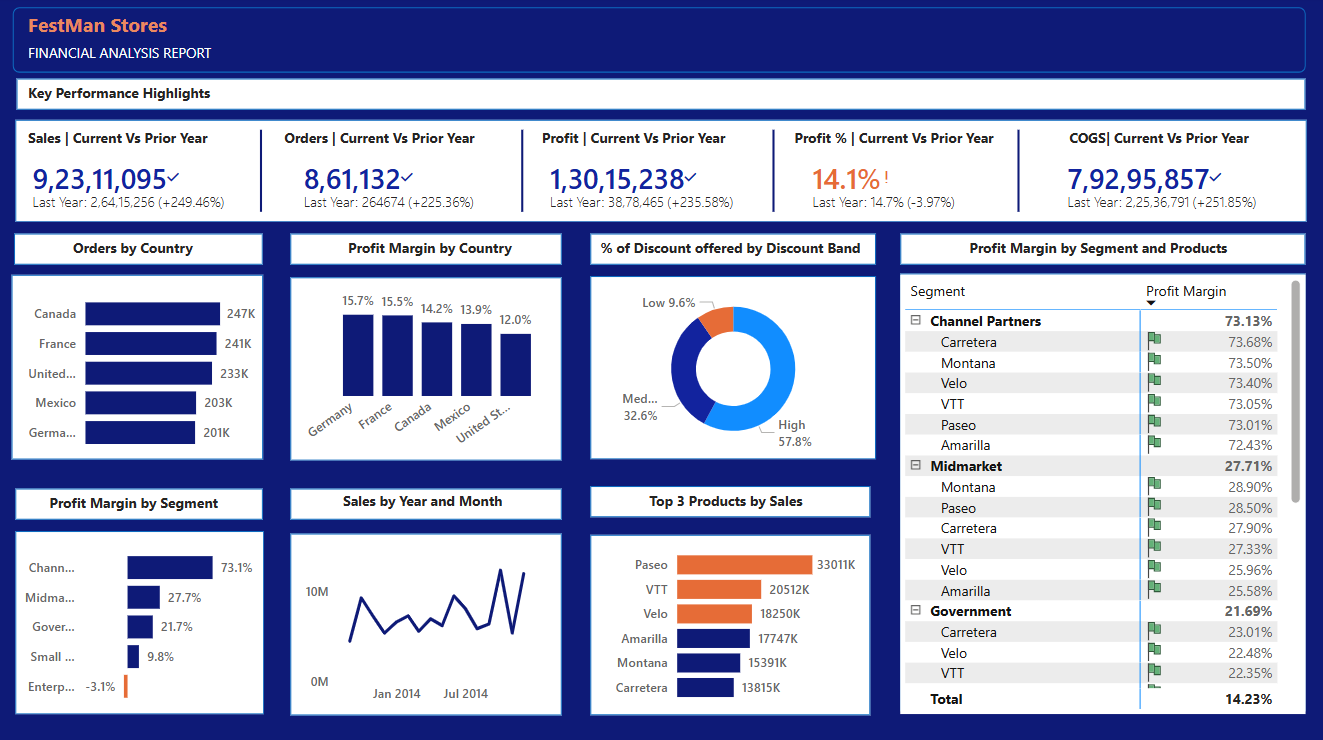

The page's visual inventory and layout, read from the dashboard file:
{"tool":"powerbi","page":{"name":"Financial Analysis Report","canvas":[1280,720],"ordinal":0},"visuals":[{"type":"shape","box":[870,267.6,391.1,422.6],"z":0},{"type":"shape","box":[13.7,11,1247.9,63.1],"z":1000},{"type":"textbox","box":[22.8,9.6,167.4,43.9],"z":2000},{"type":"textbox","box":[22.8,41.2,215.4,38.4],"z":3000},{"type":"shape","box":[17,79.6,1244.1,30.2],"z":4000},{"type":"textbox","box":[23.3,79.6,203.1,30.2],"z":5000},{"type":"shape","box":[15.1,119.4,1246.5,98.8],"z":6000},{"type":"shape","box":[14,229.2,240.1,30.2],"z":7000},{"type":"shape","box":[281.3,229.2,262.1,30.2],"z":8000},{"type":"shape","box":[570.8,229.2,275.8,30.2],"z":9000},{"type":"shape","box":[12.3,269,242.9,178.4],"z":10000},{"type":"shape","box":[281.3,271.7,262.1,177],"z":11000},{"type":"shape","box":[570.8,270.3,275.8,177],"z":12000},{"type":"shape","box":[16.2,474.8,239,30.2],"z":13000},{"type":"shape","box":[281.3,474.8,262.1,30.2],"z":14000},{"type":"shape","box":[570.8,473.4,270.3,30.2],"z":15000},{"type":"shape","box":[15.1,516.5,240.1,177],"z":16000},{"type":"shape","box":[281.3,518.7,262.1,175.6],"z":17000},{"type":"shape","box":[570.8,520.1,270.3,174.3],"z":18000},{"type":"shape","box":[870,229.2,391.1,30.2],"z":19000},{"type":"kpi","fields":{"Indicator":["Analysis.Sales Amount"],"TrendLine":["Date Table.Year"],"Goal":["Analysis.Sales Amount LY"]},"box":[19.2,148.2,222.3,70],"z":20000},{"type":"textbox","box":[23.3,123.5,193.5,30.2],"z":21000},{"type":"shape","box":[186.6,129,131.7,79.6],"z":22000},{"type":"kpi","fields":{"TrendLine":["Date Table.Year"],"Indicator":["Analysis.Orders"],"Goal":["Analysis.Orders LY"]},"box":[281.3,148.2,218.2,70],"z":23000},{"type":"kpi","fields":{"TrendLine":["Date Table.Year"],"Indicator":["Analysis.Profit"],"Goal":["Analysis.Profit LY"]},"box":[518.7,148.2,214.1,70],"z":24000},{"type":"kpi","fields":{"Indicator":["Analysis.Profit Margin"],"TrendLine":["Date Table.Year"],"Goal":["Analysis.Profit Margin LY"]},"box":[772.6,148.2,211.3,70],"z":25000},{"type":"kpi","fields":{"TrendLine":["Date Table.Year"],"Indicator":["Analysis.COGS"],"Goal":["Analysis.COGS LY"]},"box":[1018.2,148.2,211.3,70],"z":26000},{"type":"textbox","box":[270.3,123.5,207.2,30.2],"z":27000},{"type":"textbox","box":[518.7,123.5,205.8,30.2],"z":28000},{"type":"textbox","box":[763,123.5,227.8,30.2],"z":29000},{"type":"textbox","box":[1027.9,123.1,193,30.2],"z":30000},{"type":"shape","box":[439.1,129,131.7,79.6],"z":31000},{"type":"shape","box":[682,129,131.7,79.6],"z":32000},{"type":"shape","box":[918,129,131.7,79.6],"z":33000},{"type":"barChart","fields":{"Category":["Financials.Country"],"Y":["Analysis.Orders"]},"box":[9.6,271.7,242.9,178.4],"z":34000},{"type":"textbox","box":[65.9,229.2,138.6,30.2],"z":35000},{"type":"columnChart","fields":{"Category":["Financials.Country"],"Y":["Analysis.Profit Margin"]},"box":[292.3,270.3,242.9,177],"z":36000},{"type":"textbox","box":[332.1,229.2,178.4,30.2],"z":37000},{"type":"donutChart","fields":{"Category":["Financials.Discount Band"],"Y":["Analysis.Discount Offered"]},"box":[594.2,271.7,230.5,177],"z":38000},{"type":"textbox","box":[575,229.2,269,30.2],"z":39000},{"type":"barChart","fields":{"Category":["Financials.Segment"],"Y":["Analysis.Profit Margin"]},"box":[8.2,516,242.9,178.4],"z":40000},{"type":"textbox","box":[43.9,474.8,182.5,30.2],"z":41000},{"type":"lineChart","fields":{"Category":["Date Table.Date.Variation.Date Hierarchy.Year","Date Table.Date.Variation.Date Hierarchy.Month"],"Y":["Analysis.Sales Amount"]},"box":[290.9,517.3,242.9,174.3],"z":42000},{"type":"barChart","fields":{"Y":["Analysis.Sales Amount"],"Category":["Financials.Product"]},"box":[588.7,517.3,242.9,174.3],"z":43000},{"type":"textbox","box":[326.6,473.4,175.6,30.2],"z":44000},{"type":"textbox","box":[623,473.4,171.5,30.2],"z":45000},{"type":"pivotTable","fields":{"Rows":["Financials.Segment","Financials.Product"],"Values":["Analysis.Profit Margin"]},"box":[870,269,391.1,424],"z":46000},{"type":"textbox","box":[931.7,229.2,270.3,30.2],"z":47000}]}

Visuals, with their boxes in screenshot pixels (x1, y1, x2, y2), scaled from the page's 1280x720 canvas onto the 1323x740 screenshot:
shape: BBox(899, 275, 1303, 709)
shape: BBox(14, 11, 1304, 76)
textbox: BBox(24, 10, 197, 55)
textbox: BBox(24, 42, 246, 82)
shape: BBox(18, 82, 1303, 113)
textbox: BBox(24, 82, 234, 113)
shape: BBox(16, 123, 1304, 224)
shape: BBox(14, 236, 263, 267)
shape: BBox(291, 236, 562, 267)
shape: BBox(590, 236, 875, 267)
shape: BBox(13, 276, 264, 460)
shape: BBox(291, 279, 562, 461)
shape: BBox(590, 278, 875, 460)
shape: BBox(17, 488, 264, 519)
shape: BBox(291, 488, 562, 519)
shape: BBox(590, 487, 869, 518)
shape: BBox(16, 531, 264, 713)
shape: BBox(291, 533, 562, 714)
shape: BBox(590, 535, 869, 714)
shape: BBox(899, 236, 1303, 267)
kpi - Analysis.Sales Amount x Date Table.Year: BBox(20, 152, 250, 224)
textbox: BBox(24, 127, 224, 158)
shape: BBox(193, 133, 329, 214)
kpi - Date Table.Year x Analysis.Orders: BBox(291, 152, 516, 224)
kpi - Date Table.Year x Analysis.Profit: BBox(536, 152, 757, 224)
kpi - Analysis.Profit Margin x Date Table.Year: BBox(799, 152, 1017, 224)
kpi - Date Table.Year x Analysis.COGS: BBox(1052, 152, 1271, 224)
textbox: BBox(279, 127, 494, 158)
textbox: BBox(536, 127, 749, 158)
textbox: BBox(789, 127, 1024, 158)
textbox: BBox(1062, 127, 1262, 158)
shape: BBox(454, 133, 590, 214)
shape: BBox(705, 133, 841, 214)
shape: BBox(949, 133, 1085, 214)
barChart - Financials.Country x Analysis.Orders: BBox(10, 279, 261, 463)
textbox: BBox(68, 236, 211, 267)
columnChart - Financials.Country x Analysis.Profit Margin: BBox(302, 278, 553, 460)
textbox: BBox(343, 236, 528, 267)
donutChart - Financials.Discount Band x Analysis.Discount Offered: BBox(614, 279, 852, 461)
textbox: BBox(594, 236, 872, 267)
barChart - Financials.Segment x Analysis.Profit Margin: BBox(8, 530, 260, 714)
textbox: BBox(45, 488, 234, 519)
lineChart - Date Table.Date.Variation.Date Hierarchy.Year x Date Table.Date.Variation.Date Hierarchy.Month: BBox(301, 532, 552, 711)
barChart - Analysis.Sales Amount x Financials.Product: BBox(608, 532, 860, 711)
textbox: BBox(338, 487, 519, 518)
textbox: BBox(644, 487, 821, 518)
pivotTable - Financials.Segment x Financials.Product: BBox(899, 276, 1303, 712)
textbox: BBox(963, 236, 1242, 267)
